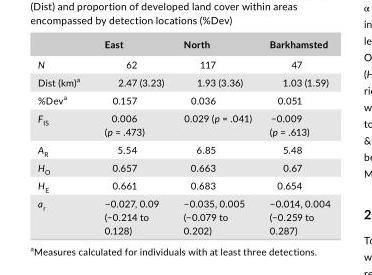table: (37, 37, 332, 235)
table column: (173, 37, 259, 235), (91, 37, 173, 235), (259, 37, 332, 235), (37, 37, 91, 235)
table column header: (37, 37, 332, 53)
table row: (37, 195, 332, 235), (37, 108, 332, 140), (37, 53, 332, 72), (37, 140, 332, 159), (37, 72, 332, 90), (37, 90, 332, 108), (37, 159, 332, 177), (37, 177, 332, 195), (37, 37, 332, 53)
